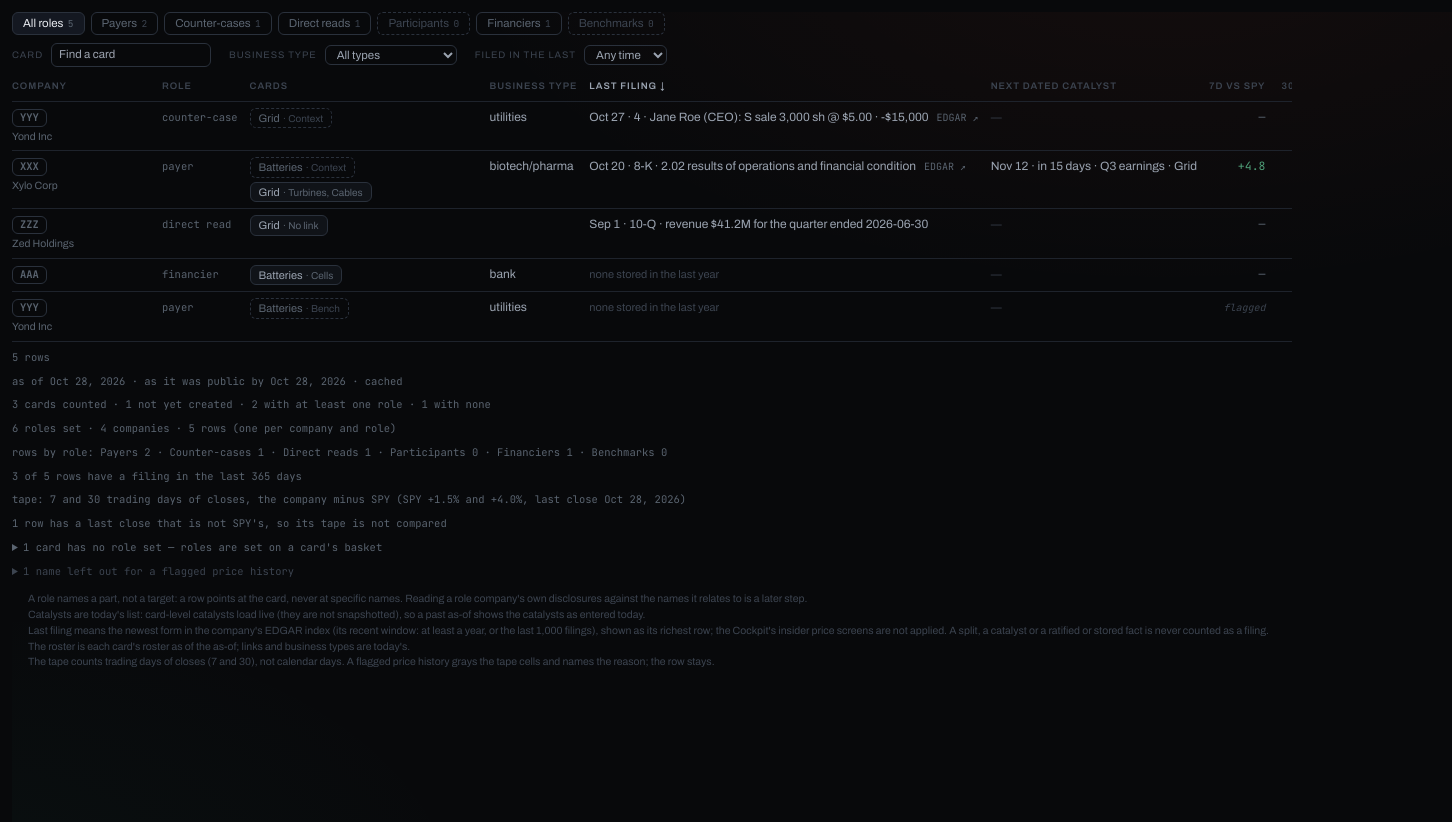
Test: ReadThrough — the filters › says so when no row passes, and counts what is in view
Type "nonesuch" into the search field named "Find a card". click: [131, 55]
box: [51,43,211,67]
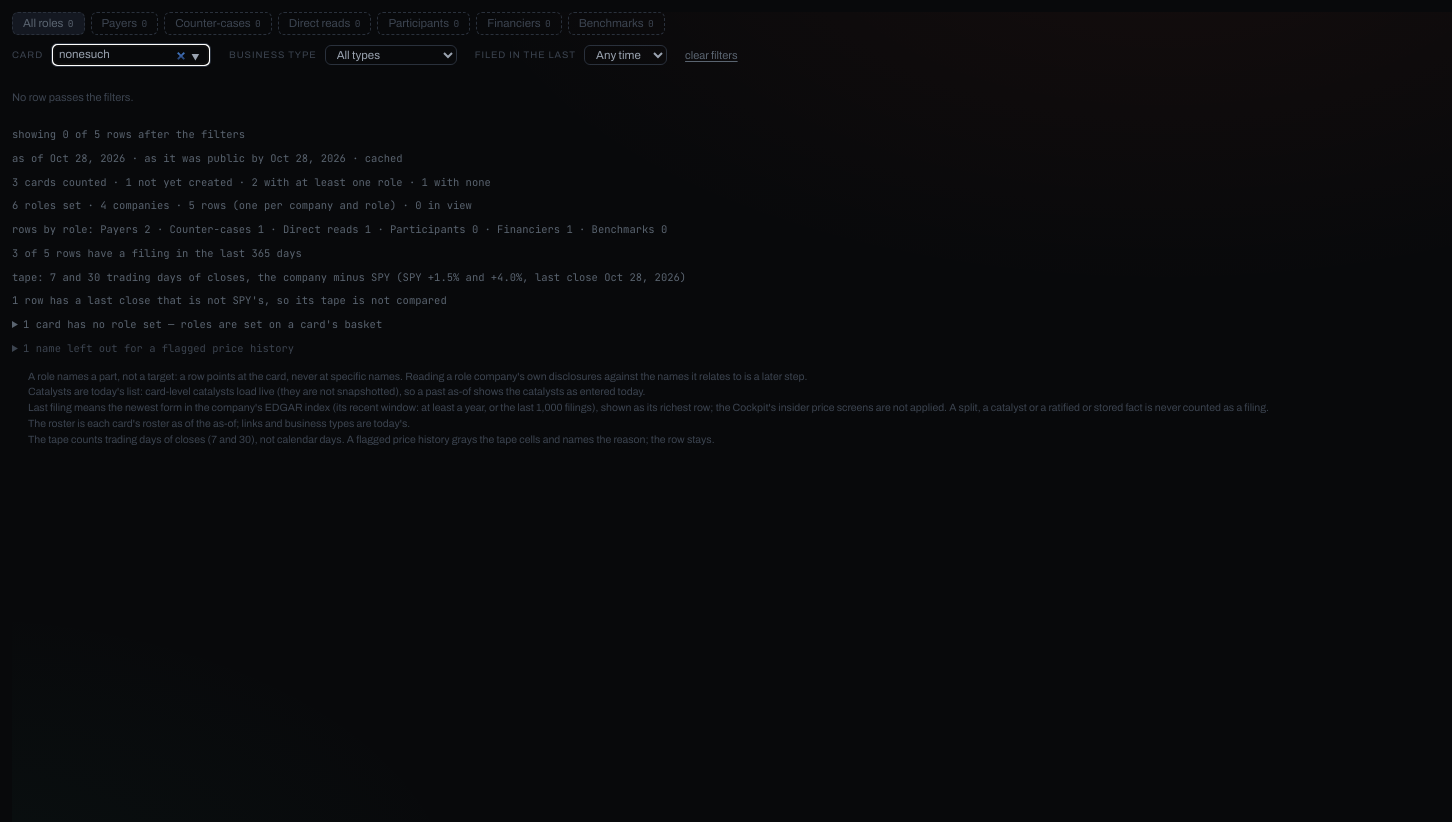
Now the text "No row passes the filters." is shown, box [12,90,134,102]
Now no rows with test id "rt-row" are shown
